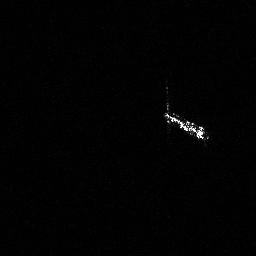ship: (159, 107, 212, 143)
